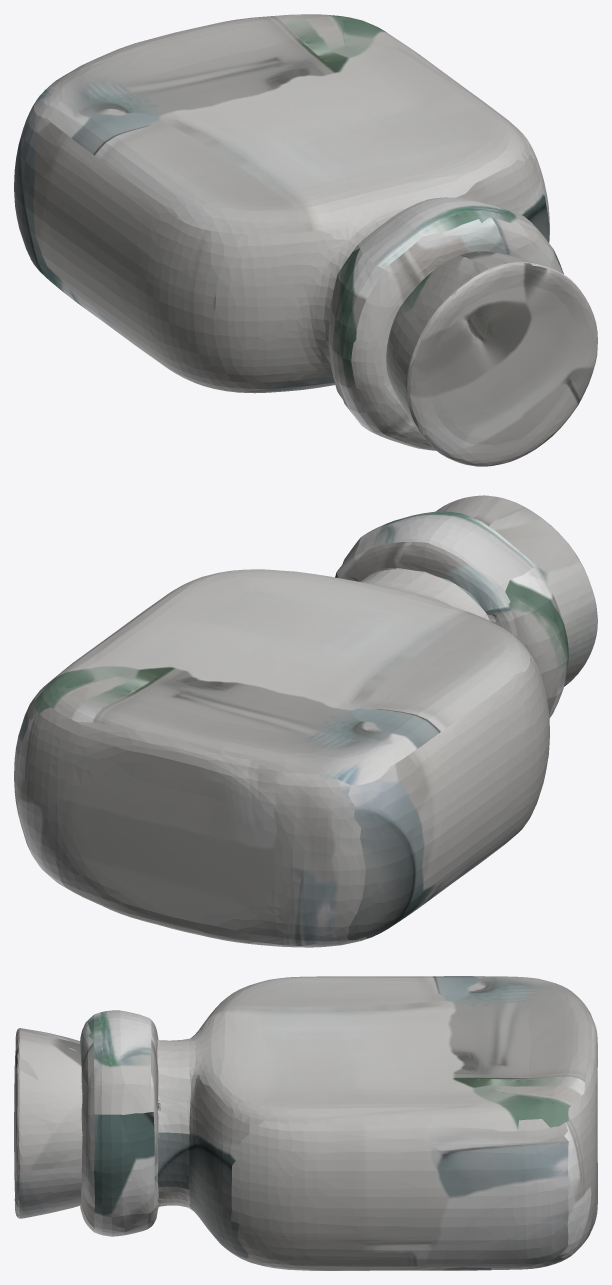
Rendered from Arsenico.fbx.
3 views of the same model, one above another, from view 1: azimuth 30°, elevation 25°; view 2: azimuth 150°, elevation 25°; view 3: azimuth 270°, elevation 25° (orthographic). The views are drawn at different scales.
Visible parts, largest first — view 1: geometry_0.001; view 2: geometry_0.001; view 3: geometry_0.001.
Boxes of the visible parts, x1,y1,x2,y2 form: geometry_0.001: (14,14,597,466); geometry_0.001: (14,495,597,947); geometry_0.001: (14,976,597,1270).
Size of the model in its own units: 3327 by 1934 by 4890.
